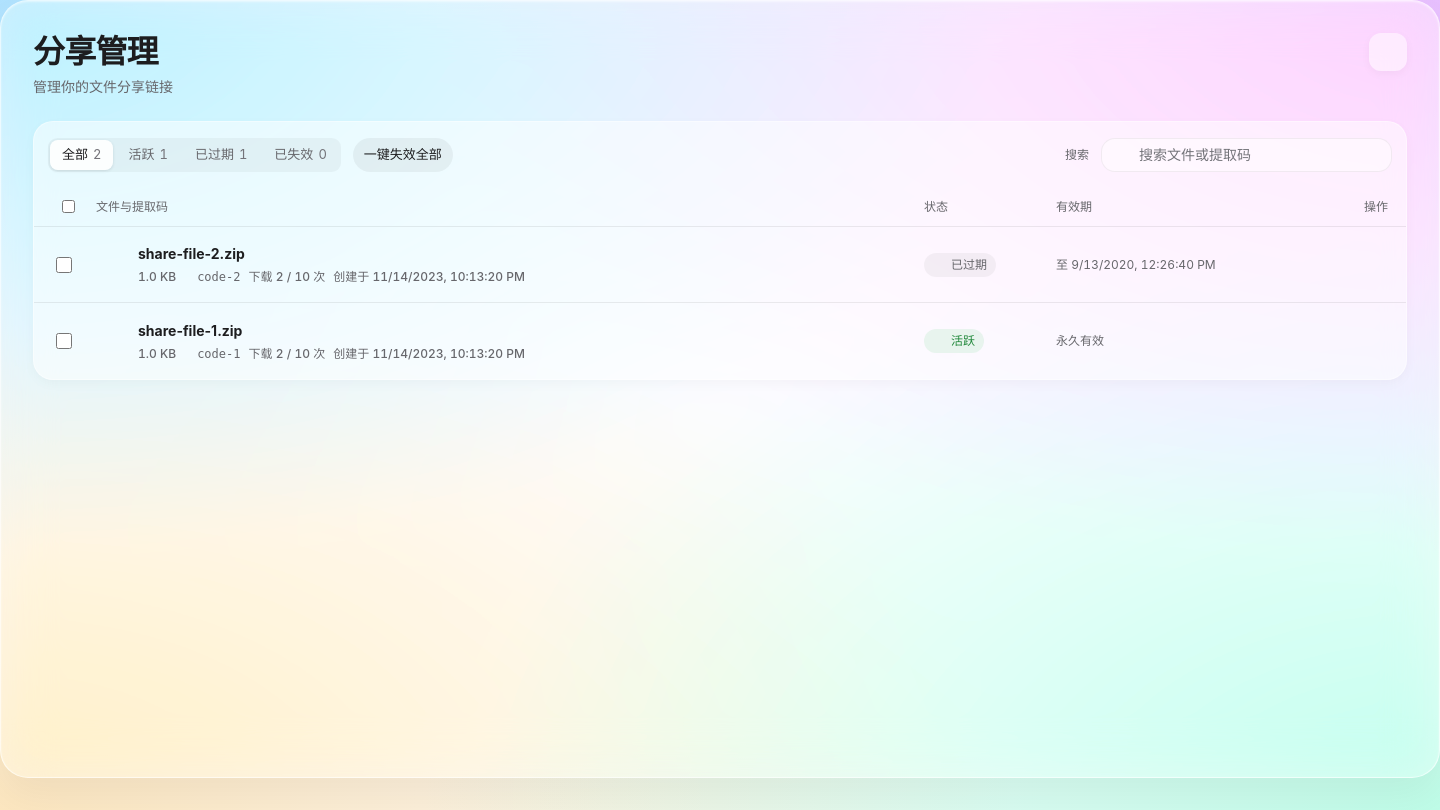
Scenario: SharesPage（V1 分享管理页） › 状态筛选在本地过滤
Expected: the text "share-file-1.zip" is shown, [138,322,242,339]
Click the tab "已过期1": (221, 155) [183,140,259,170]
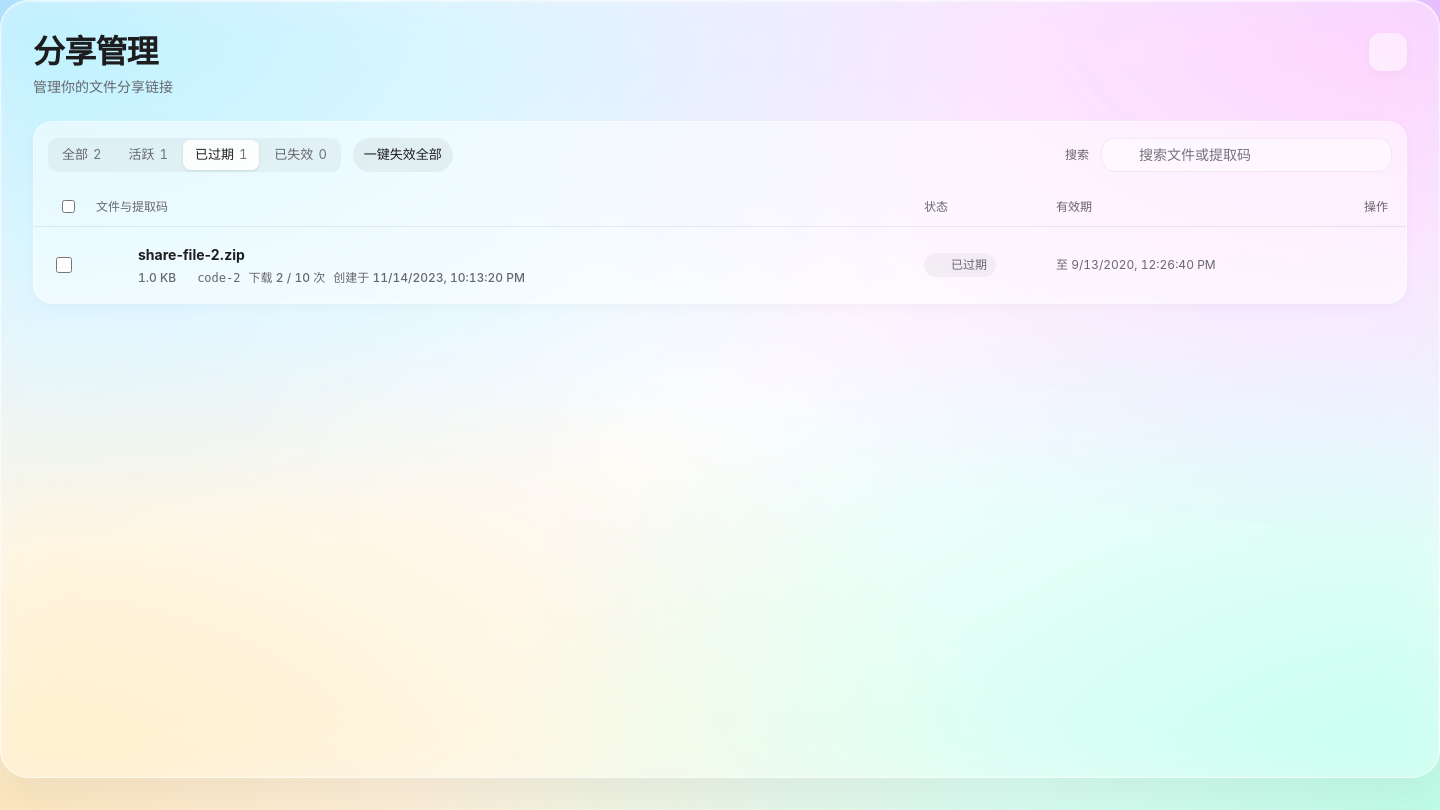
Expected: the text "share-file-2.zip" is shown, [138,246,245,263]
Expected: the button "share-file-1.zip" is gone
